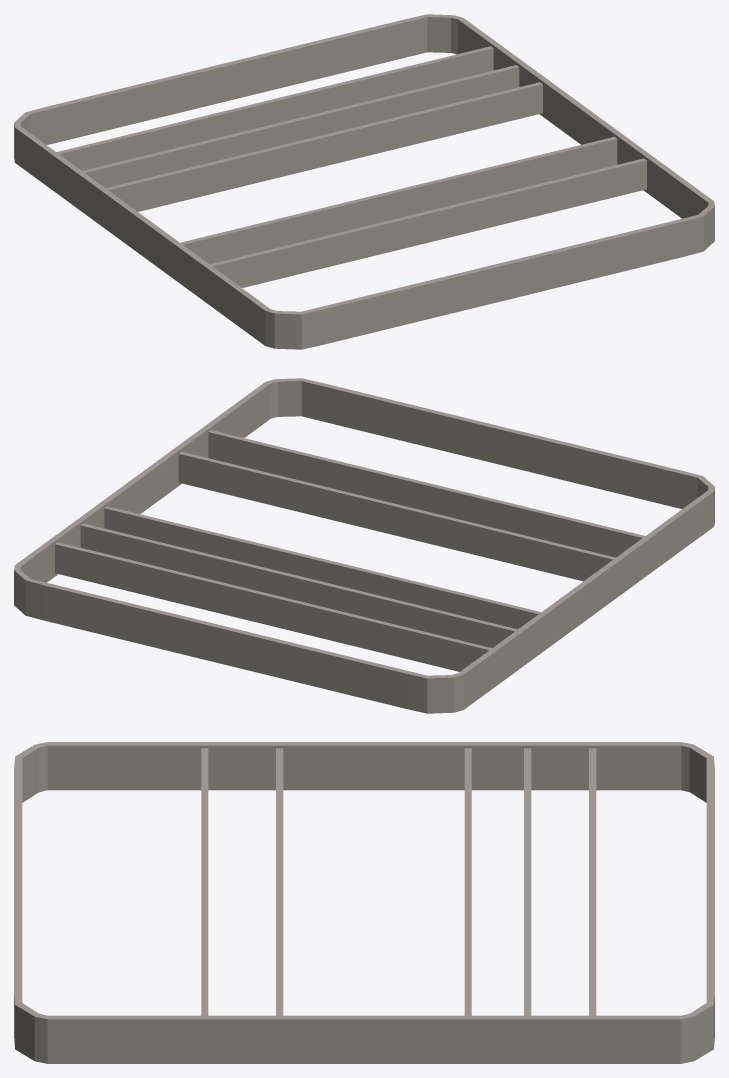
The model's file is metal_frame_04.fbx.
3 renders of one model, top to bottom at view 1: azimuth 30°, elevation 25°; view 2: azimuth 150°, elevation 25°; view 3: azimuth 270°, elevation 25°, orthographic. The views are drawn at different scales.
Parts seen in each view (by area): view 1: metal_frame_04; view 2: metal_frame_04; view 3: metal_frame_04.
Part boxes in pixels (x1=…): metal_frame_04: x1=14, y1=14, x2=714, y2=349; metal_frame_04: x1=14, y1=378, x2=714, y2=713; metal_frame_04: x1=14, y1=742, x2=714, y2=1063.
Size of the model in its own units: 100 by 7.54 by 107.
